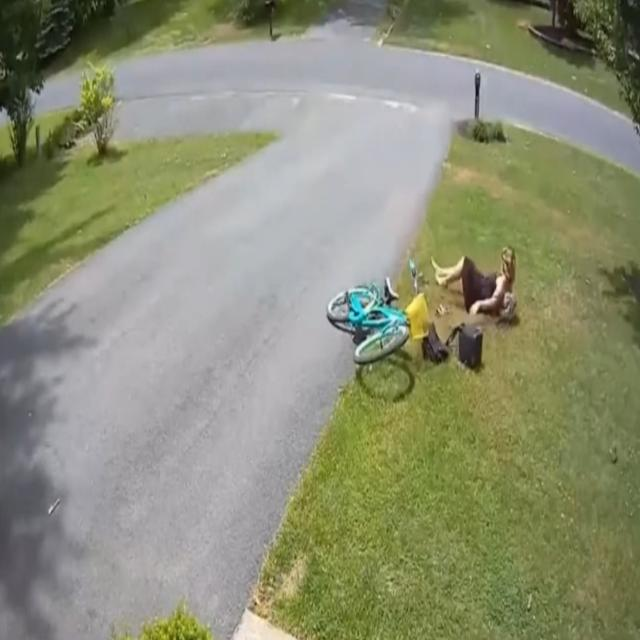fallen: (431, 245, 516, 315)
